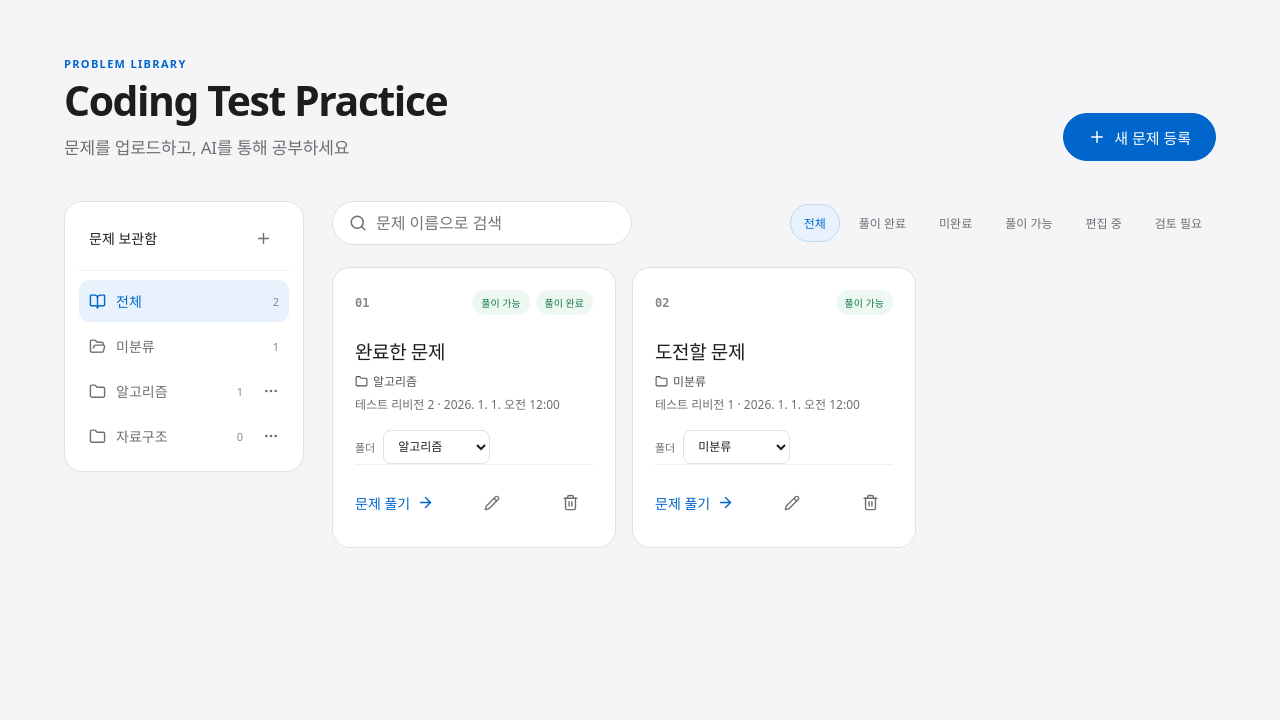
Scenario: LibraryPage folders › focuses a control in the delete dialog and restores the live folder menu button
Check: the heading "완료한 문제" is shown, box x1=355 y1=339 x2=445 y2=365
Click the button named "알고리즘 폴더 관리".
click(271, 391)  # box x1=253 y1=373 x2=289 y2=409
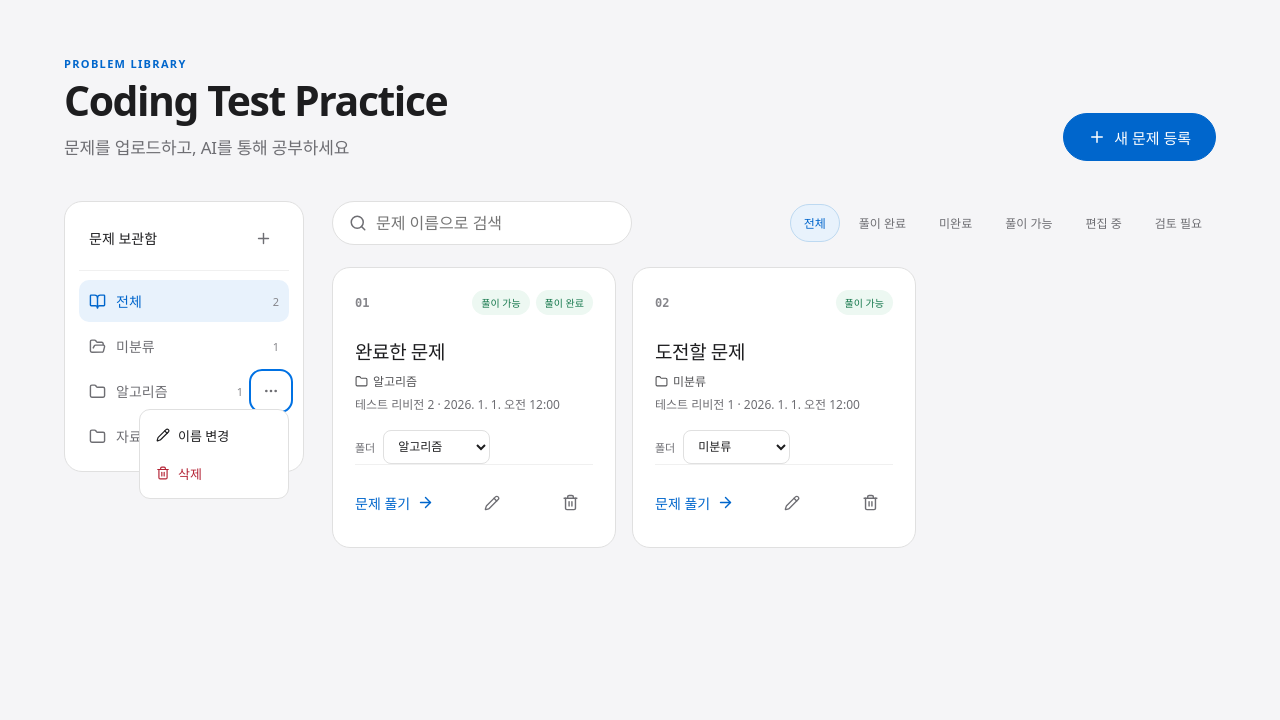
Click the button "삭제".
click(214, 473)  # box x1=146 y1=454 x2=282 y2=492
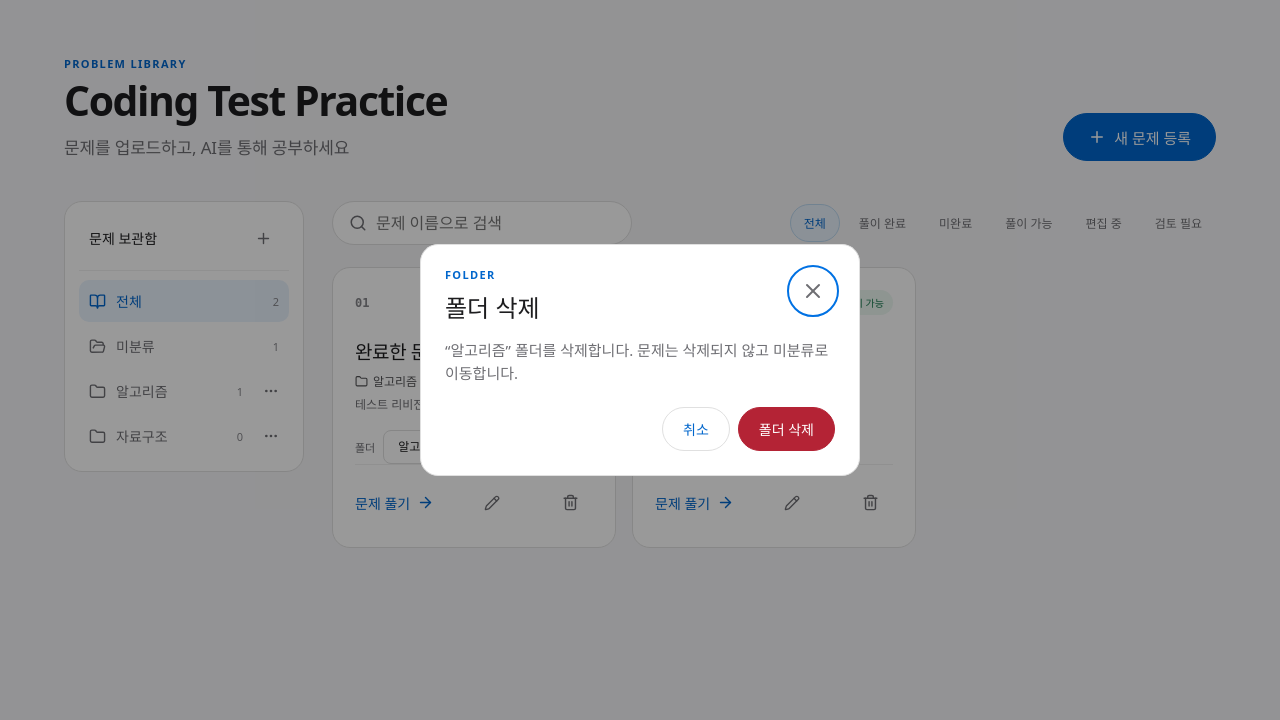
Press Escape in the dialog, box x1=420 y1=244 x2=860 y2=476
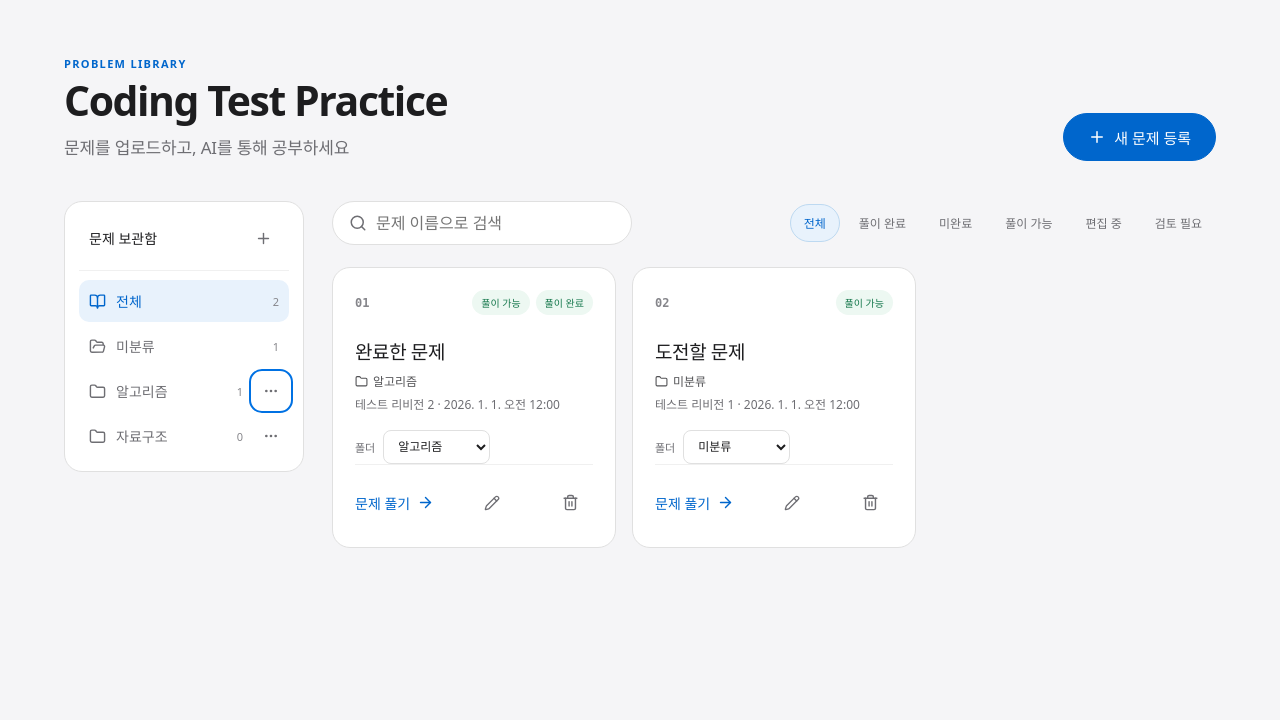
Check: the dialog is gone
